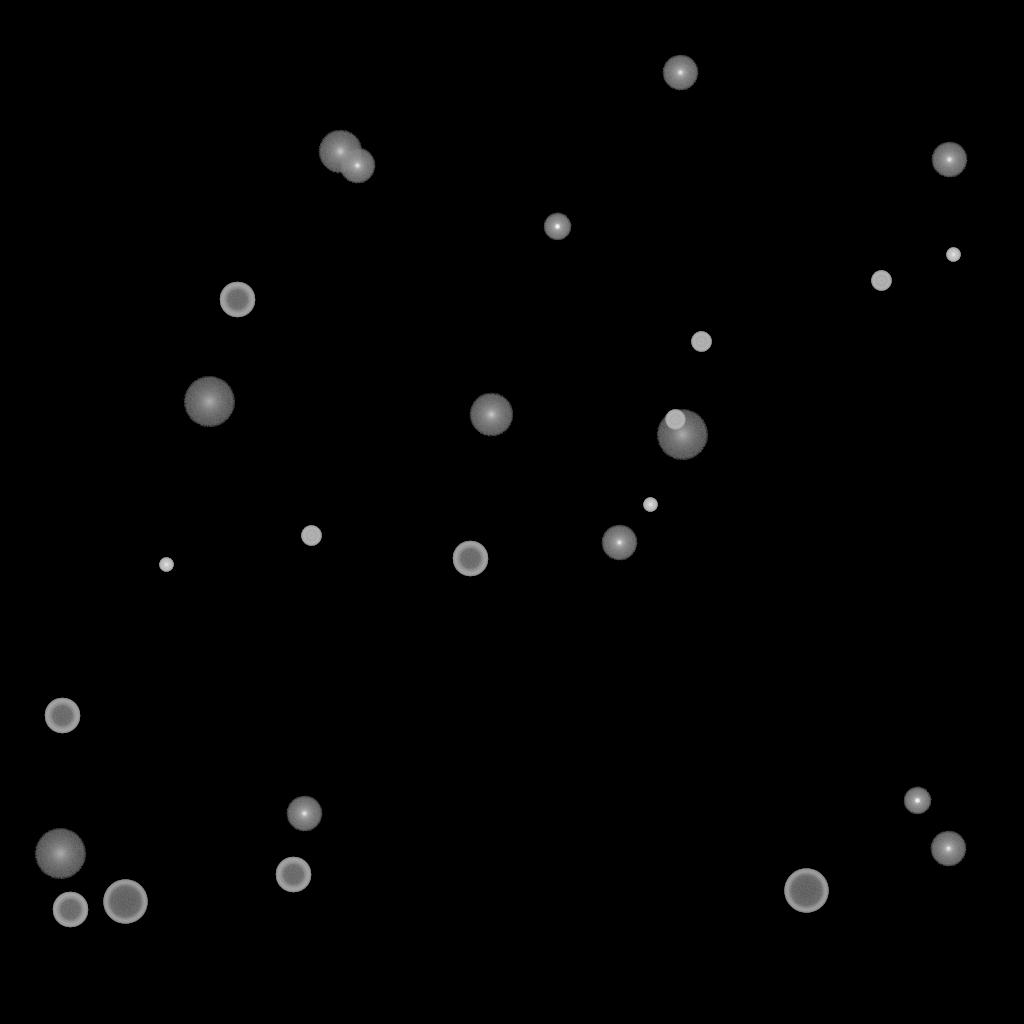depth:-10: (903, 787, 931, 815), (543, 213, 571, 241)
depth:-30: (159, 558, 173, 572), (946, 248, 960, 262), (643, 498, 657, 512)
depth:-40: (691, 332, 711, 352), (871, 271, 891, 291), (301, 526, 321, 546), (665, 410, 685, 430)
depth:-60: (275, 857, 311, 893), (52, 892, 88, 928), (44, 698, 80, 734), (219, 282, 255, 318), (452, 541, 488, 577)
depth:-70: (103, 880, 147, 924), (784, 869, 828, 913)
depth:0: (601, 525, 637, 561), (339, 148, 375, 184), (930, 831, 966, 867), (931, 142, 967, 178), (286, 796, 322, 832), (662, 55, 698, 91)
depth:10: (469, 393, 513, 437), (318, 130, 362, 174)
depth:20: (34, 829, 86, 879), (183, 377, 235, 427), (656, 410, 708, 460)
